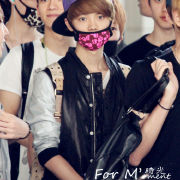face: (40, 1, 68, 29), (149, 1, 173, 28)
face_mask: (75, 3, 110, 50)
